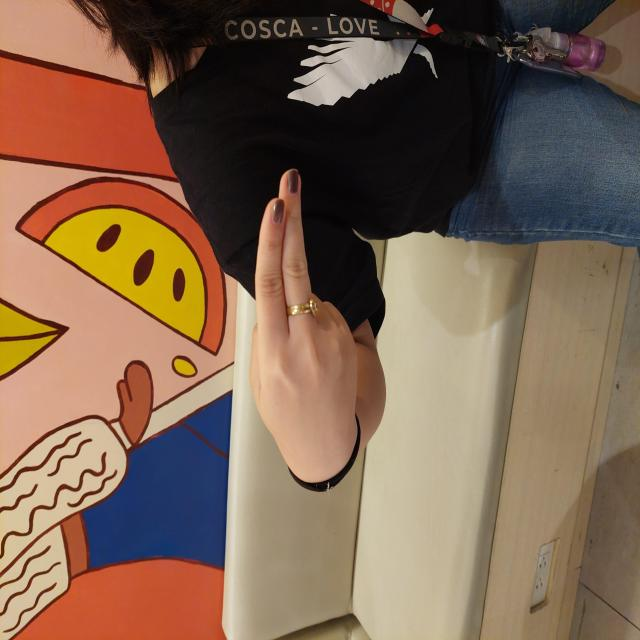H: (152, 246, 473, 360)
